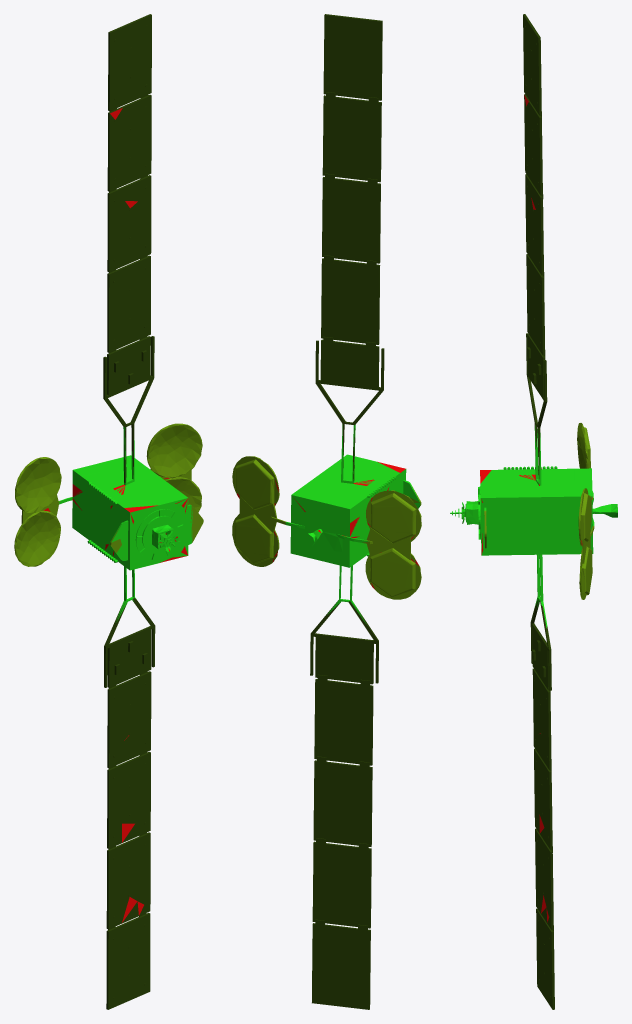
The model's file is matlib_hylas4.obj.
3 views of the same model, side by side, from view 1: azimuth 30°, elevation 25°; view 2: azimuth 150°, elevation 25°; view 3: azimuth 270°, elevation 25° (orthographic).
Visible parts, largest first — view 1: mesh1; view 2: mesh1; view 3: mesh1.
Boxes of the visible parts, x1,y1,x2,y2 form: mesh1: (14, 14, 203, 1009); mesh1: (232, 14, 421, 1009); mesh1: (450, 14, 617, 1009).
Size of the model in its own units: 6.32 by 31.59 by 4.96.
